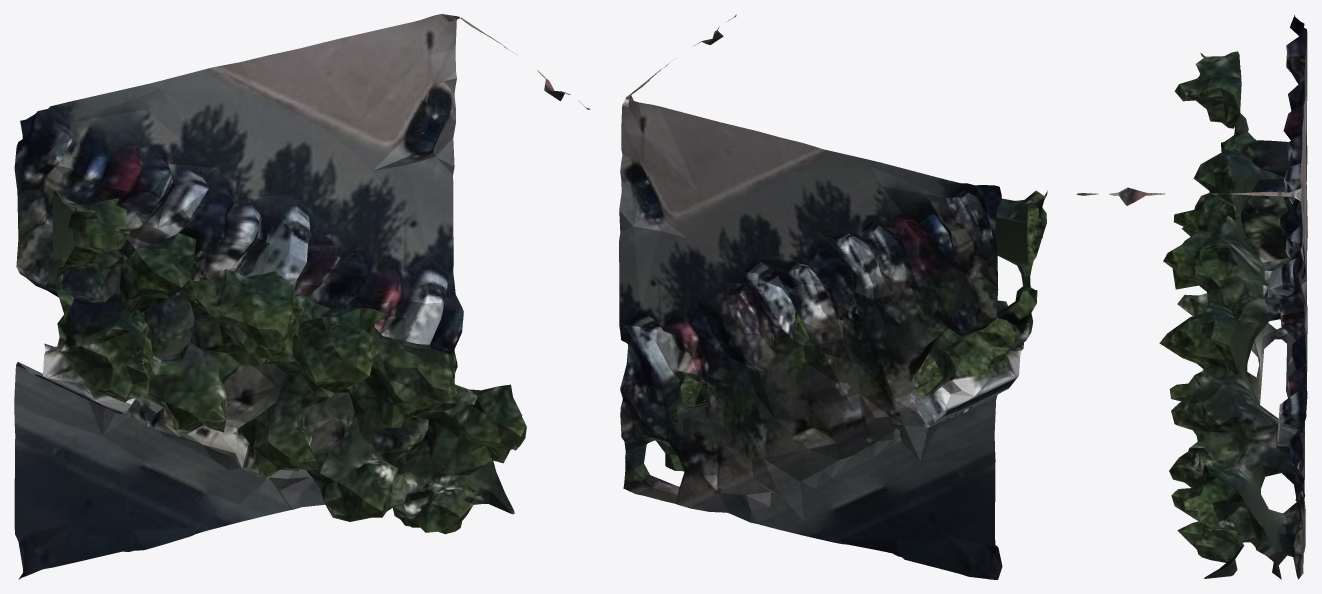
The model's file is Tile_+038_+019_L19_000122.obj.
3 views of the same model, side by side, from view 1: azimuth 30°, elevation 25°; view 2: azimuth 150°, elevation 25°; view 3: azimuth 270°, elevation 25° (orthographic). The views are drawn at different scales.
Size of the model in its own units: 31.75 by 31.75 by 17.26.
Materials: 1 (1 with a texture image).
